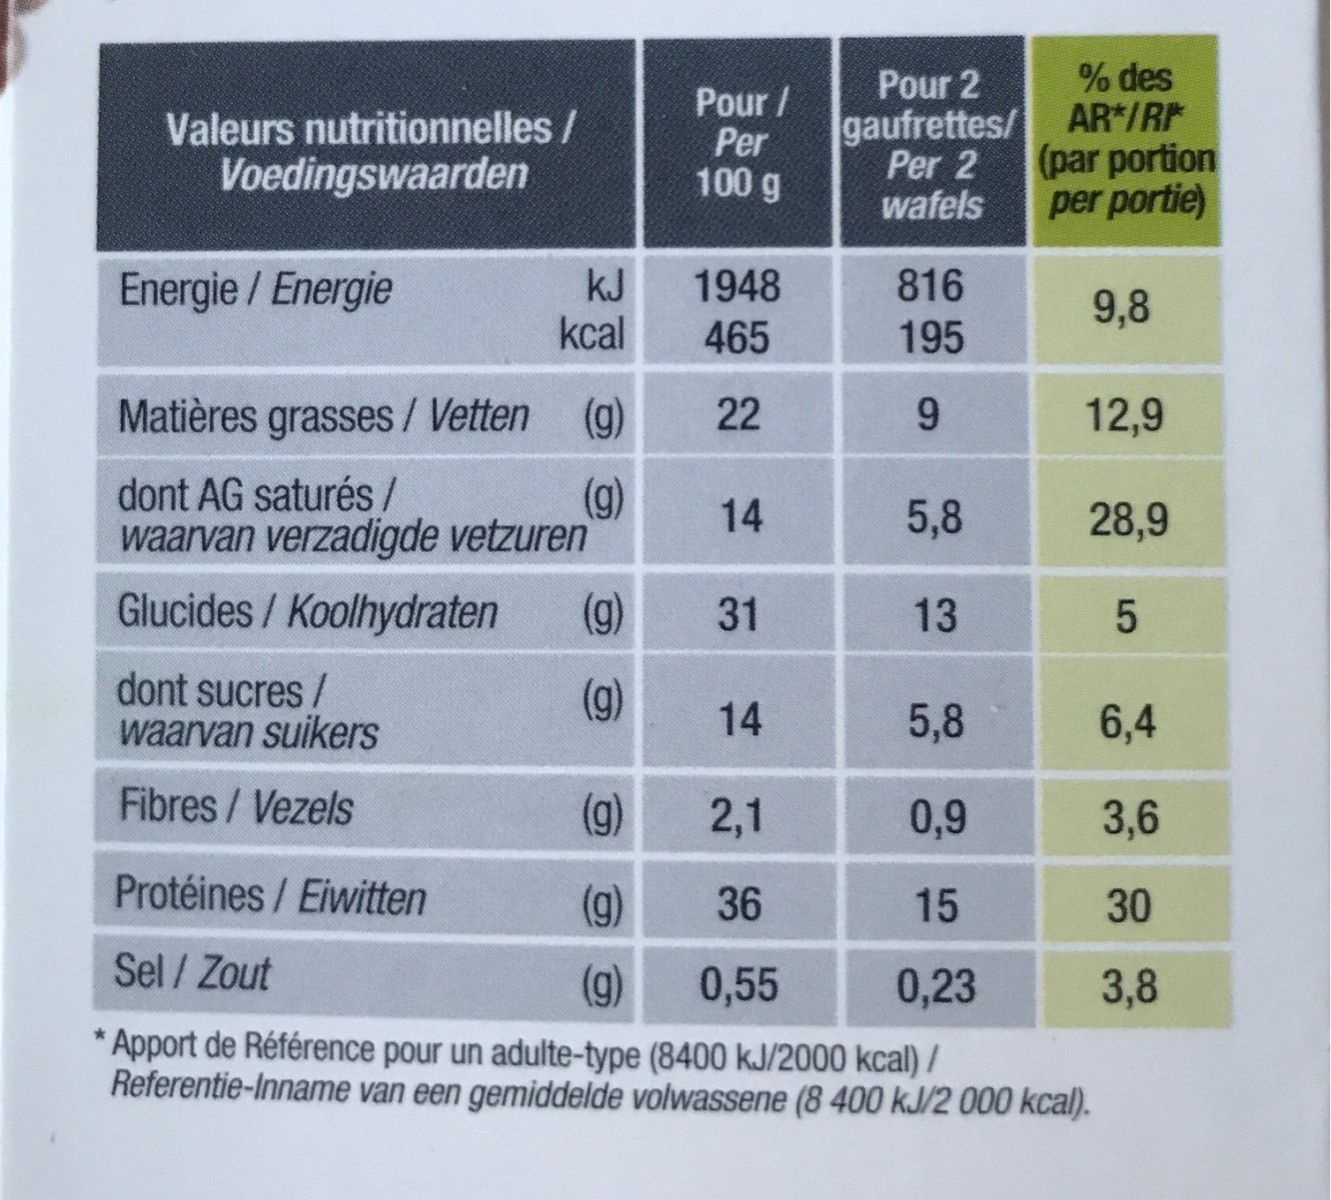column: (114, 79, 627, 1015), (1037, 54, 1217, 1024), (844, 68, 1021, 1023), (686, 79, 795, 1017)
table: (87, 37, 1231, 1032)
